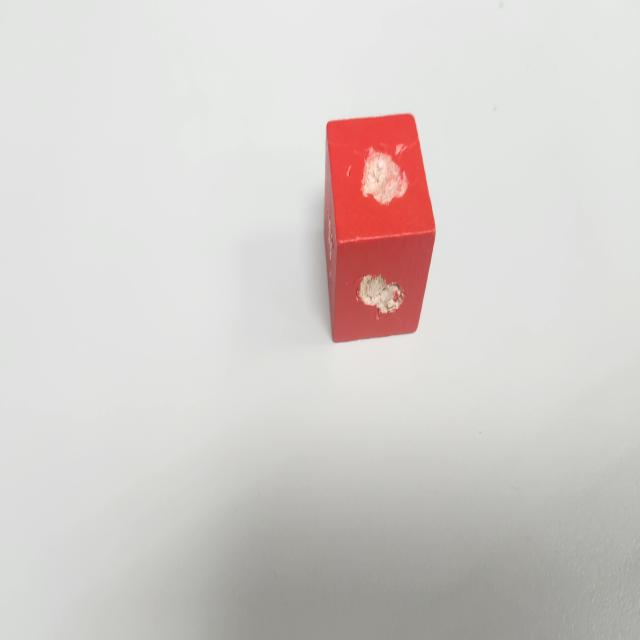broken: (324, 113, 436, 342)
